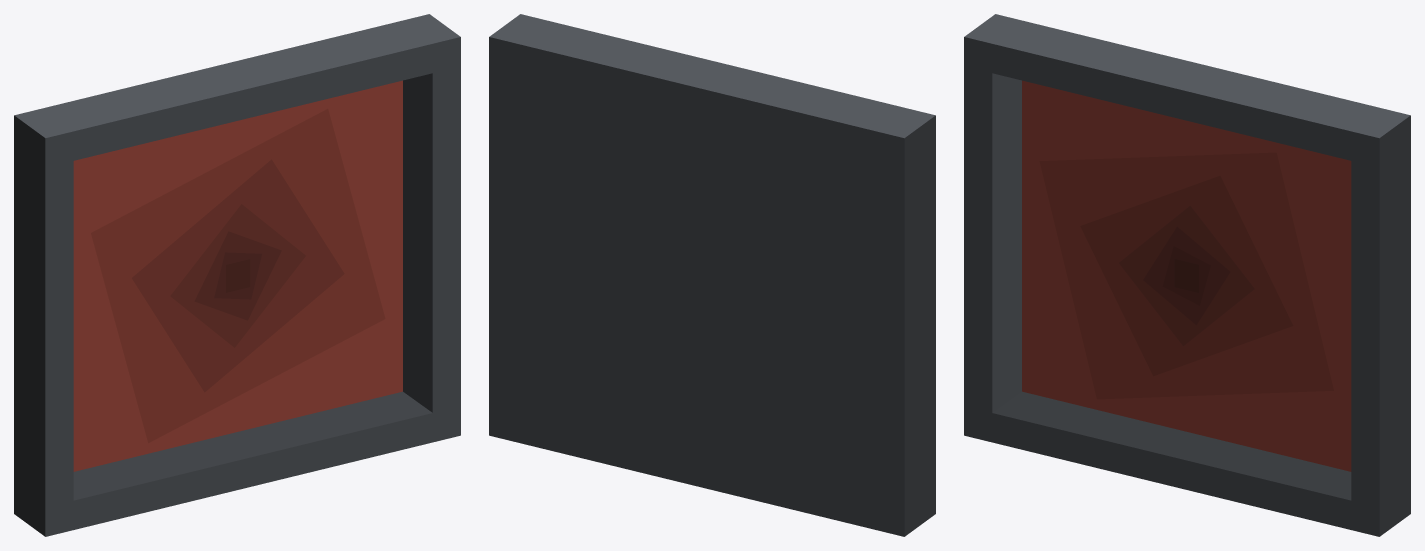
Rendered from AI_Prop_Painting_05.fbx.
3 renders of one model, left to right at view 1: azimuth 30°, elevation 25°; view 2: azimuth 150°, elevation 25°; view 3: azimuth 330°, elevation 25°, orthographic.
Parts seen in each view (by area): view 1: AI_Prop_Painting_05; view 2: AI_Prop_Painting_05; view 3: AI_Prop_Painting_05.
Part boxes in pixels (x1,y1,x2,y2): AI_Prop_Painting_05: (14,14,460,536); AI_Prop_Painting_05: (489,14,935,536); AI_Prop_Painting_05: (964,14,1410,536).
Size of the model in its own units: 0.9863 by 0.9048 by 0.1289.
